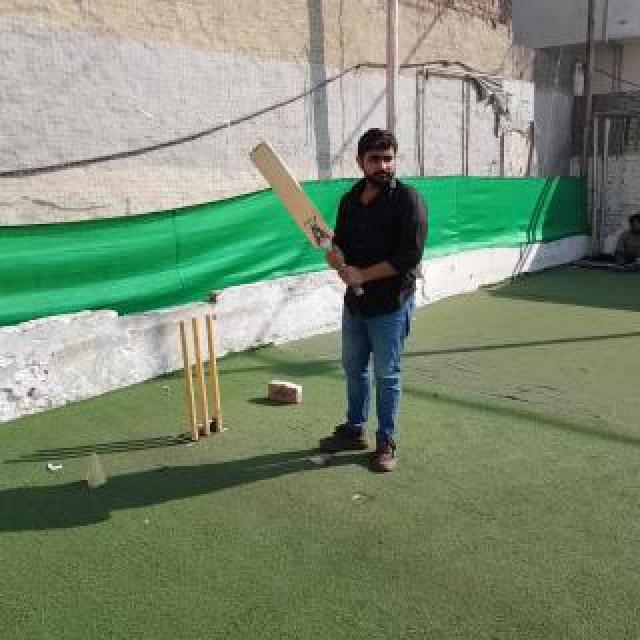bat: (250, 141, 364, 297)
